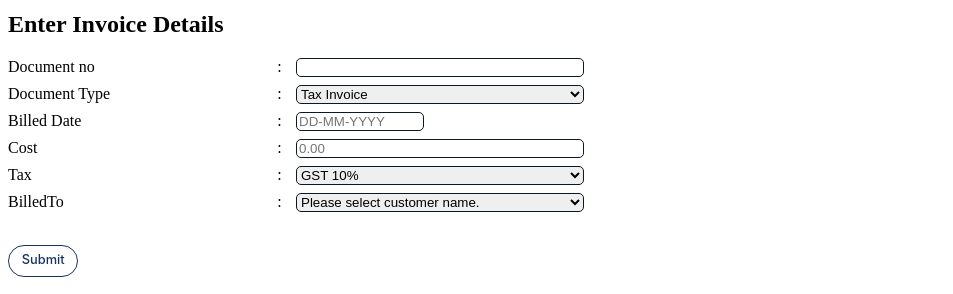
Invoices Component: Form › Renders "Error Message" where user submits invalid date format
Type "INV001" into the field named "docNo" at [440, 67], box [296,58,584,77]
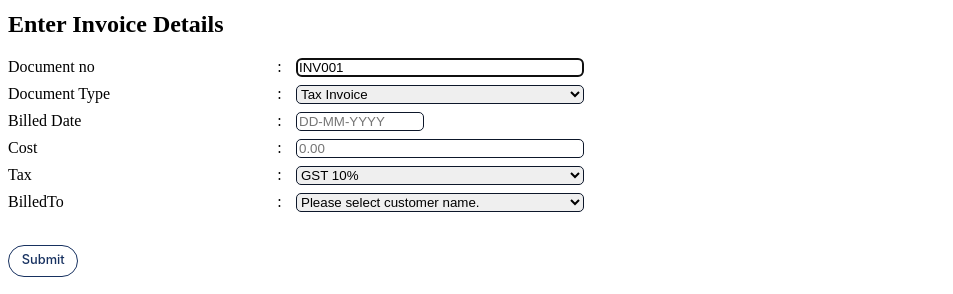
Type "30-04-20" into the field named "date" at [360, 122], box [296,112,424,131]
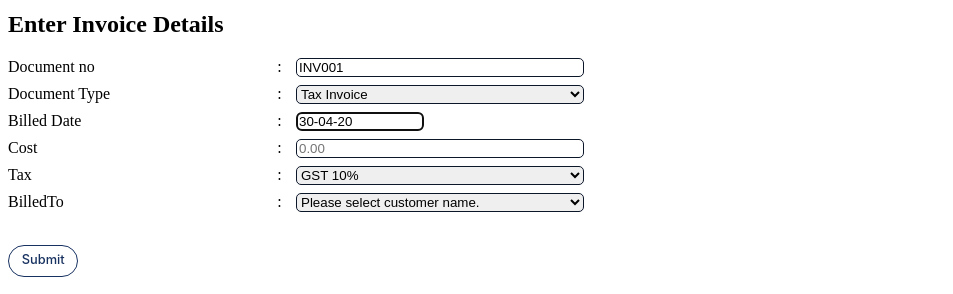
Click the button at [43, 261], box [8,245,78,277]
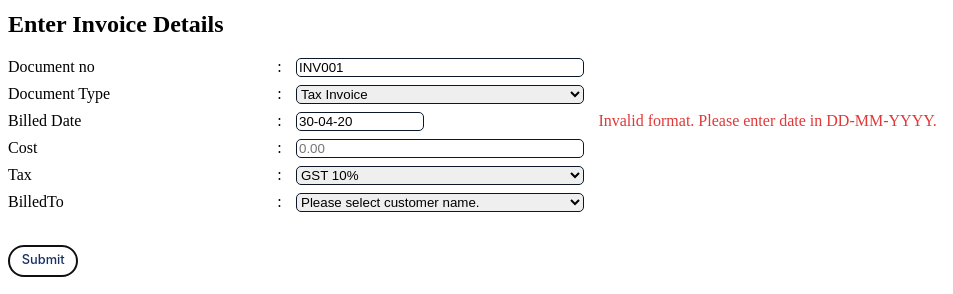
Expected: the text "Invalid format. Please enter date in DD-MM-YYYY." is shown, [598,112,937,129]
